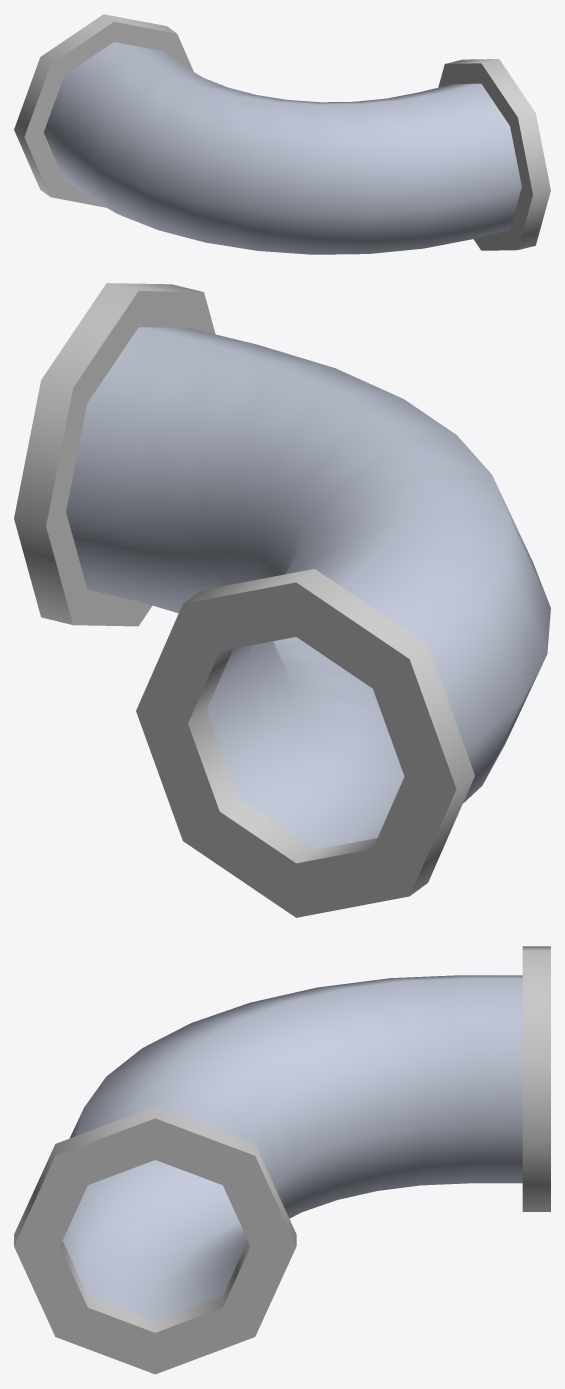
The model's file is pipe-glass-large-bend.obj.
The picture shows the model from 3 angles, top to bottom: view 1: azimuth 30°, elevation 25°; view 2: azimuth 150°, elevation 25°; view 3: azimuth 270°, elevation 25°; orthographic projection. The views are drawn at different scales.
Visible parts, largest first — view 1: pipe-glass-large-bend; view 2: pipe-glass-large-bend; view 3: pipe-glass-large-bend.
Boxes of the visible parts, bbox=[...] form: pipe-glass-large-bend: bbox=[14, 14, 550, 254]; pipe-glass-large-bend: bbox=[14, 283, 550, 917]; pipe-glass-large-bend: bbox=[14, 946, 550, 1374].
Size of the model in its own units: 1.9 by 1 by 1.9.
